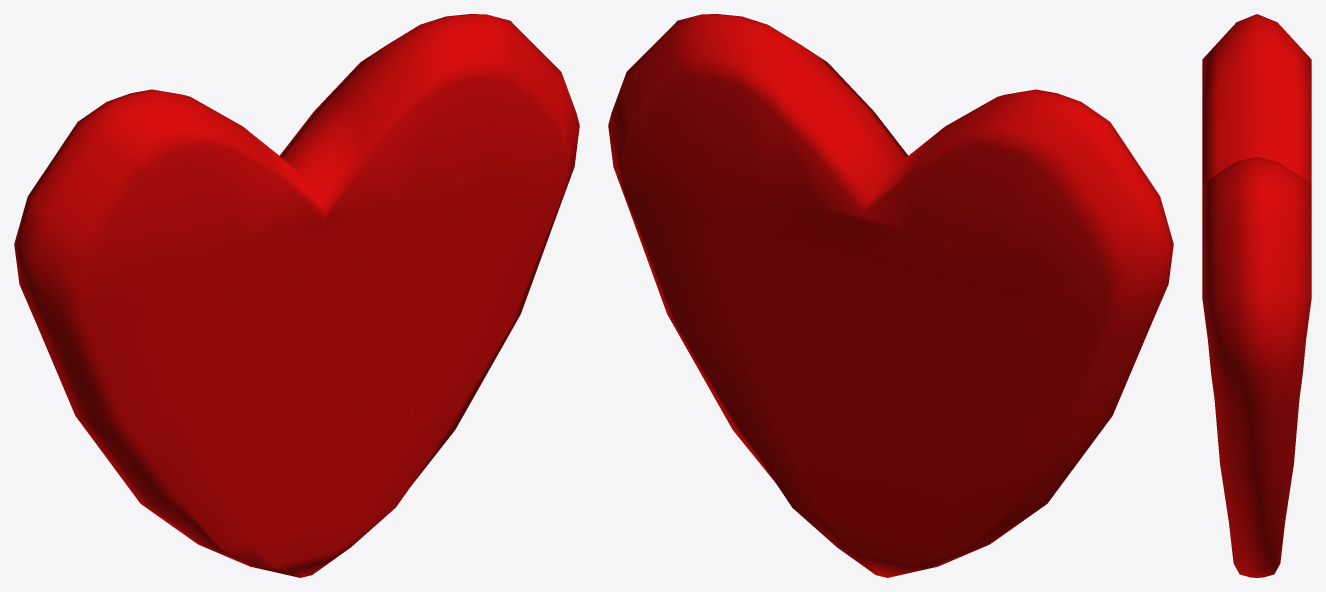
File: corazon rojo.fbx
The picture shows the model from 3 angles, left to right: view 1: azimuth 30°, elevation 25°; view 2: azimuth 150°, elevation 25°; view 3: azimuth 270°, elevation 25°; orthographic projection. The views are drawn at different scales.
Visible parts, largest first — view 1: pCube2; view 2: pCube2; view 3: pCube2.
Boxes of the visible parts, x1=… form: pCube2: x1=14, y1=14, x2=579, y2=577; pCube2: x1=608, y1=14, x2=1173, y2=577; pCube2: x1=1202, y1=14, x2=1311, y2=577.
Size of the model in its own units: 1.95 by 1.71 by 0.3557.
